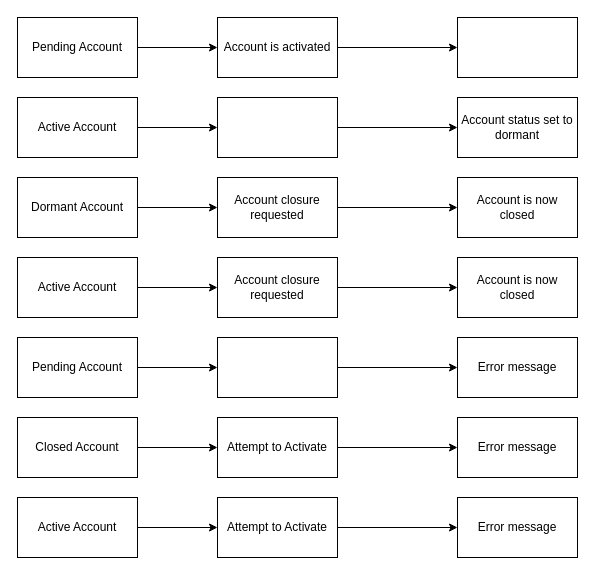
This 595x575 diagram has some shape labels left out. The centre of each missing label's shape, as x and y in pixels:
Account is now active: User can perform actions: the point at 517,47
Account set to dormant: the point at 277,127
Customer attempts deposit: the point at 277,367
